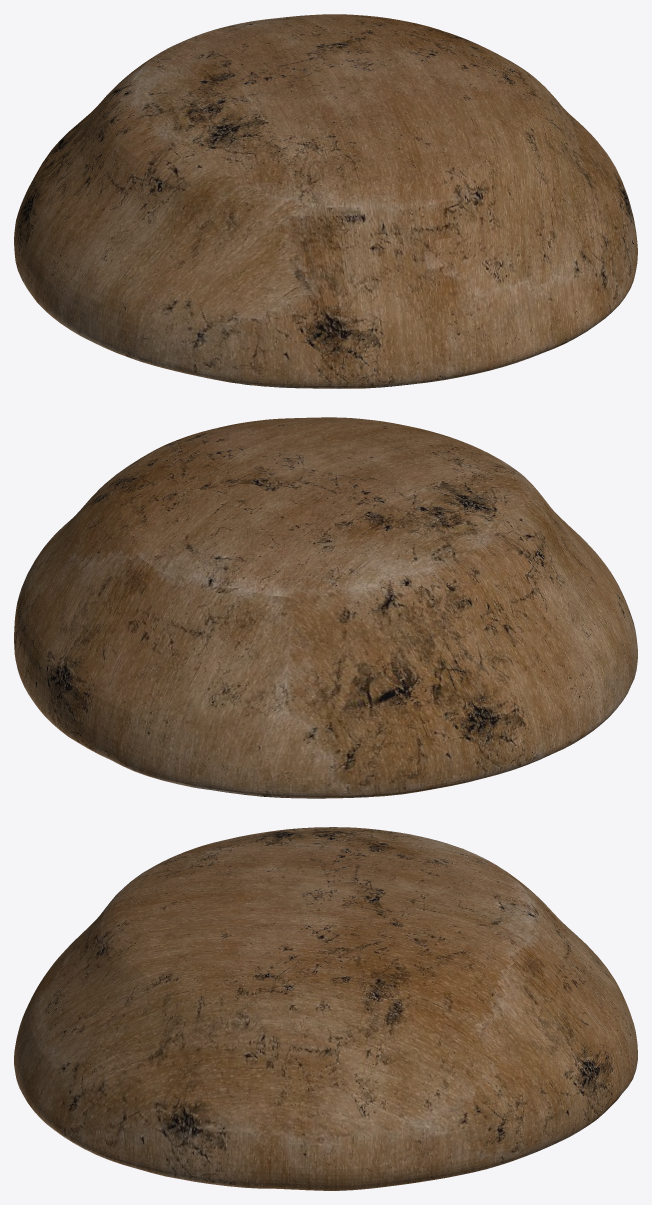
File: topCork2.gltf
The picture shows the model from 3 angles, top to bottom: view 1: azimuth 30°, elevation 25°; view 2: azimuth 150°, elevation 25°; view 3: azimuth 270°, elevation 25°; orthographic projection. The views are drawn at different scales.
Parts seen in each view (by area): view 1: Retopo_middle-top.002; view 2: Retopo_middle-top.002; view 3: Retopo_middle-top.002.
Boxes of the visible parts, x1,y1,x2,y2 form: Retopo_middle-top.002: (14,14,637,388); Retopo_middle-top.002: (14,417,637,798); Retopo_middle-top.002: (14,827,637,1190).
Size of the model in its own units: 4.27 by 1.47 by 4.33.
Materials: 1 (1 with a texture image).
